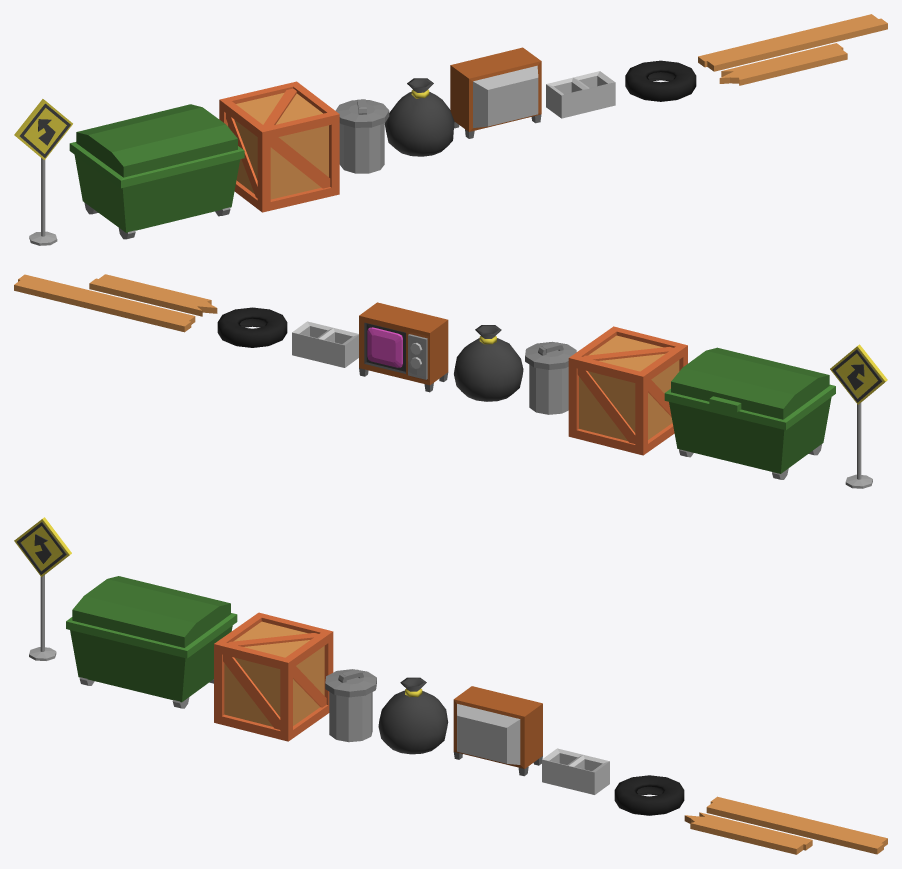
Rendered from CityTrash.fbx.
The picture shows the model from 3 angles, top to bottom: view 1: azimuth 30°, elevation 25°; view 2: azimuth 150°, elevation 25°; view 3: azimuth 330°, elevation 25°; orthographic projection.
Parts seen in each view (by area): view 1: Cube, Cube.170, Cube.001, Cylinder.002, Cube.004, Cube.003, Cylinder.001, Cube.005, Cylinder.032, Cube.002, Cylinder.033, Cylinder.003; view 2: Cube, Cube.170, Cube.001, Cylinder.002, Cube.004, Cylinder.001, Cube.003, Cube.005, Cube.002, Cylinder.032, Cylinder.033, Cylinder.003; view 3: Cube, Cube.170, Cube.001, Cylinder.002, Cube.004, Cube.003, Cylinder.001, Cube.005, Cylinder.032, Cube.002, Cylinder.033, Cylinder.003.
Boxes of the visible parts, x1,y1,x2,y2 form: Cube: (69,104,244,232); Cube.170: (219,81,339,212); Cube.001: (450,47,541,138); Cylinder.002: (384,78,454,156); Cube.004: (698,14,887,71); Cube.003: (546,71,615,118); Cylinder.001: (625,60,696,101); Cube.005: (719,43,847,85); Cylinder.032: (339,123,384,173); Cube.002: (14,99,72,159); Cylinder.033: (335,99,389,127); Cylinder.003: (29,158,57,245); Cube: (664,347,835,473); Cube.170: (568,326,687,455); Cube.001: (359,302,448,392); Cylinder.002: (454,325,523,401); Cube.004: (14,274,195,332); Cylinder.001: (217,307,287,347); Cube.003: (292,321,358,367); Cube.005: (89,274,217,316); Cube.002: (830,344,887,404); Cylinder.032: (529,364,568,414); Cylinder.033: (525,341,576,369); Cylinder.003: (845,402,872,488); Cube: (66,576,237,702); Cube.170: (214,612,333,741); Cube.001: (453,686,542,776); Cylinder.002: (378,677,448,754); Cube.004: (706,796,887,854); Cube.003: (542,748,609,794); Cylinder.001: (614,775,684,815); Cube.005: (684,812,812,854); Cylinder.032: (329,692,372,742); Cube.002: (14,517,71,576); Cylinder.033: (325,669,376,697); Cylinder.003: (29,575,56,660).
Bounding box in the file's own units: 4070 × 642 × 426.
